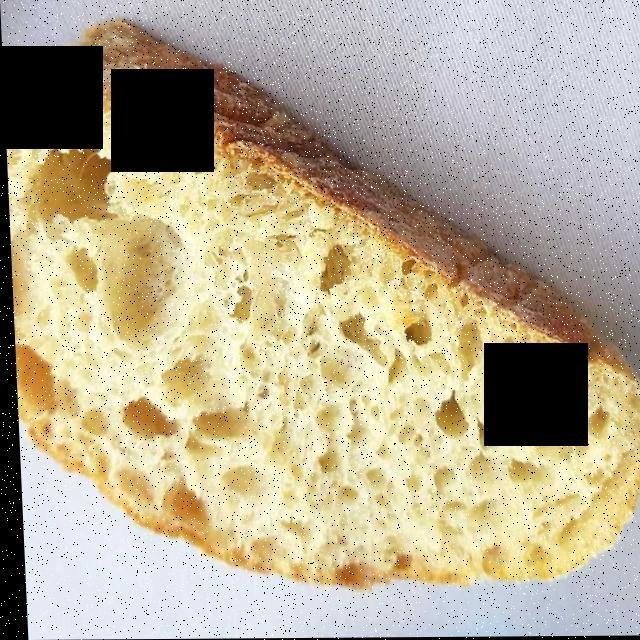bread: (14, 39, 640, 590)
